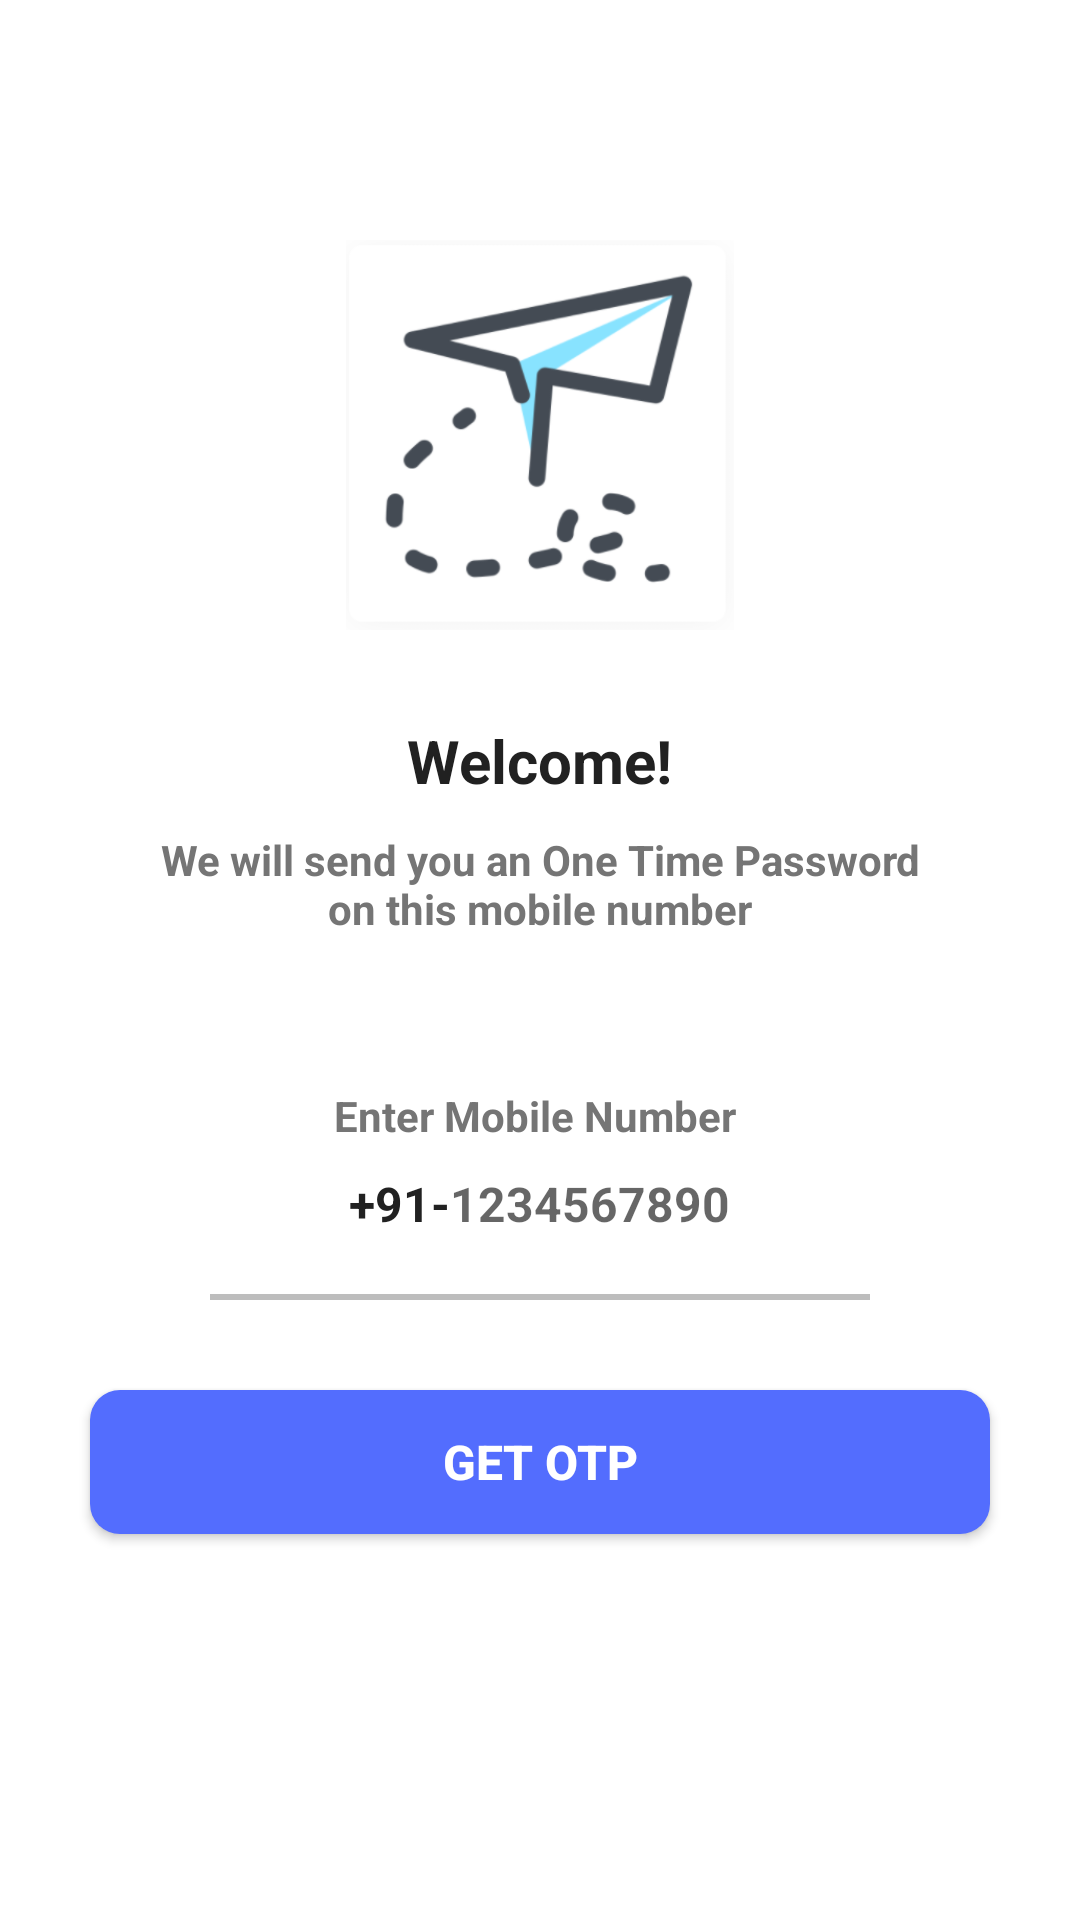

Icon bounding boxes for this 1080×1920 phone screenshot, format (x1, y1, x2, y2):
send: (385, 275, 693, 582)
